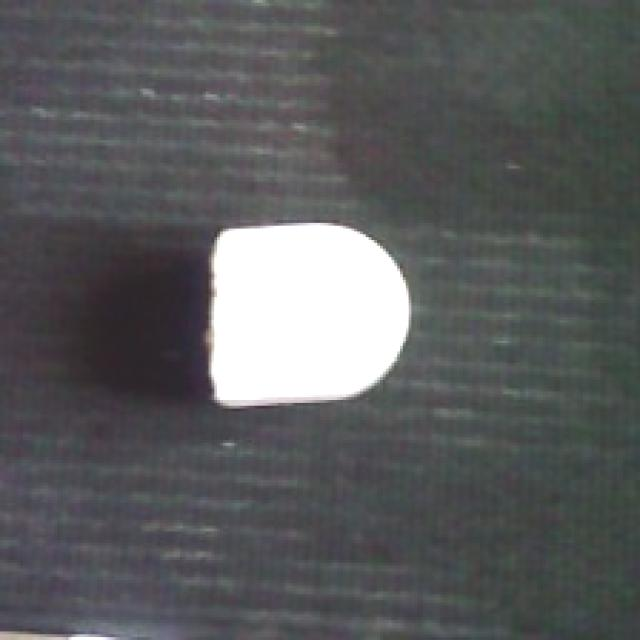defected: (197, 212, 417, 412)
